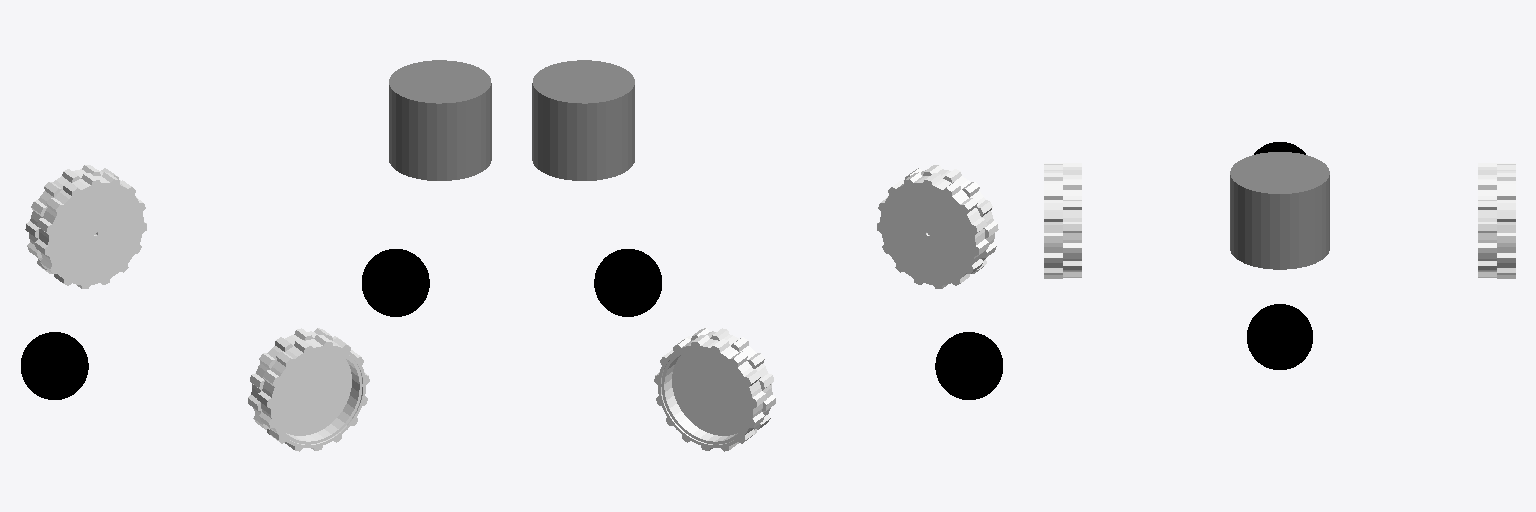
URDF robot description (diff_drive):
<?xml version="1.0"?>
<robot name="diff_drive">

  <!-- ======= 虚拟基座 ======= -->
  <link name="base_footprint">
    <inertial>
      <mass value="0.001"/>
      <origin xyz="0 0 0" rpy="0 0 0"/>
      <inertia ixx="1e-6" ixy="0" ixz="0" iyy="1e-6" iyz="0" izz="1e-6"/>
    </inertial>
  </link>

  <!-- ======= 底盘 ======= -->
  <link name="base_link">
    <inertial>
      <origin xyz="0 0 0.11676" rpy="0 0 0" />
      <mass value="1.7652" />
      <inertia ixx="0.010632" ixy="9.8514E-06" ixz="-1.4455E-05" iyy="0.01085" iyz="-1.0957E-06" izz="0.008973" />
    </inertial>
    <visual>
      <origin xyz="0 0 0" rpy="0 0 0" />
      <geometry>
        <mesh filename="package://diff_drive_gazebo/meshes/base_link.STL" />
      </geometry>
      <material name="">
        <color rgba="0.64706 0.61961 0.58824 1" />
      </material>
    </visual>
    <collision>
      <origin xyz="0 0 0.115" rpy="0 0 0" />
      <geometry>
        <cylinder radius="0.105" length="0.23" />
      </geometry>
    </collision>
  </link>

  <joint name="base_footprint_joint" type="fixed">
    <parent link="base_footprint"/>
    <child link="base_link"/>
    <origin xyz="0 0 0" rpy="0 0 0"/>
  </joint>

  <!-- ======= 左轮 ======= -->
  <link name="wheel1">
    <inertial>
      <origin xyz="-4.785E-12 0.008116 1.4731E-11" rpy="0 0 0" />
      <mass value="0.052039" />
      <inertia ixx="1.7758E-05" ixy="4.1811E-16" ixz="-2.8064E-14" iyy="3.2466E-05" iyz="-2.5217E-15" izz="1.7758E-05" />
    </inertial>
    <visual>
      <origin xyz="0 0 0" rpy="0 0 0" />
      <geometry>
        <mesh filename="package://diff_drive_gazebo/meshes/wheel1.STL" />
      </geometry>
      <material name="">
        <color rgba="1 1 1 1" />
      </material>
    </visual>
    <collision>
      <origin xyz="0 0 0" rpy="1.5708 0 0" />
      <geometry>
        <cylinder radius="0.035" length="0.024" />
      </geometry>
    </collision>
  </link>
  
  <joint name="joint1" type="continuous">
    <origin xyz="-0.013618 0.1186 0.01715" rpy="0 0 0" />
    <parent link="base_link" />
    <child link="wheel1" />
    <axis xyz="0 1 0" />
  </joint>

  <!-- ======= 右轮 ======= -->
  <link name="wheel2">
    <inertial>
      <origin xyz="8.0422E-15 -0.008116 -4.2688E-14" rpy="0 0 0" />
      <mass value="0.052039" />
      <inertia ixx="1.7758E-05" ixy="6.0139E-20" ixz="-2.5647E-20" iyy="3.2466E-05" iyz="3.8403E-21" izz="1.7758E-05" />
    </inertial>
    <visual>
      <origin xyz="0 0 0" rpy="0 0 0" />
      <geometry>
        <mesh filename="package://diff_drive_gazebo/meshes/wheel2.STL" />
      </geometry>
      <material name="">
        <color rgba="1 1 1 1" />
      </material>
    </visual>
    <collision>
      <origin xyz="0 0 0" rpy="1.5708 0 0" />
      <geometry>
        <cylinder radius="0.035" length="0.024" />
      </geometry>
    </collision>
  </link>

  <joint name="joint2" type="continuous">
    <origin xyz="-0.013618 -0.1186 0.01715" rpy="0 0 0" />
    <parent link="base_link" />
    <child link="wheel2" />
    <axis xyz="0 1 0" />
  </joint>

  <!-- ======= 前万向轮 ======= -->
  <link name="front_caster">
    <inertial>
      <mass value="0.02"/>
      <origin xyz="0 0 0" rpy="0 0 0"/>
      <inertia ixx="1e-5" ixy="0" ixz="0" iyy="1e-5" iyz="0" izz="1e-5"/>
    </inertial>
    <visual>
      <origin xyz="0 0 0" rpy="0 0 0"/>
      <geometry>
        <sphere radius="0.02"/>
      </geometry>
      <material name="Black">
        <color rgba="0 0 0 1"/>
      </material>
    </visual>
    <collision>
      <origin xyz="0 0 0" rpy="0 0 0"/>
      <geometry>
        <sphere radius="0.02"/>
      </geometry>
    </collision>
  </link>

  <joint name="front_caster_joint" type="fixed">
    <parent link="base_link"/>
    <child link="front_caster"/>
    <origin xyz="0.12 0 0.0025" rpy="0 0 0"/>
  </joint>

  <!-- ======= 后万向轮 ======= -->
  <link name="rear_caster">
    <inertial>
      <mass value="0.02"/>
      <origin xyz="0 0 0" rpy="0 0 0"/>
      <inertia ixx="1e-5" ixy="0" ixz="0" iyy="1e-5" iyz="0" izz="1e-5"/>
    </inertial>
    <visual>
      <origin xyz="0 0 0" rpy="0 0 0"/>
      <geometry>
        <sphere radius="0.02"/>
      </geometry>
      <material name="Black">
        <color rgba="0 0 0 1"/>
      </material>
    </visual>
    <collision>
      <origin xyz="0 0 0" rpy="0 0 0"/>
      <geometry>
        <sphere radius="0.02"/>
      </geometry>
    </collision>
  </link>

  <joint name="rear_caster_joint" type="fixed">
    <parent link="base_link"/>
    <child link="rear_caster"/>
    <origin xyz="-0.11 0 0.0025" rpy="0 0 0"/>
  </joint>

  <!-- ======= 激光雷达 ======= -->
  <link name="laser">
    <inertial>
      <mass value="0.1" />
      <origin xyz="0 0 0" rpy="0 0 0" />
      <inertia ixx="1e-4" ixy="0" ixz="0" iyy="1e-4" iyz="0" izz="1e-4" />
    </inertial>
    <visual>
      <origin xyz="0 0 0" rpy="0 0 0" />
      <geometry>
        <cylinder radius="0.03" length="0.05" />
      </geometry>
      <material name="Gray">
        <color rgba="0.6 0.6 0.6 1" />
      </material>
    </visual>
    <collision>
      <origin xyz="0 0 0" rpy="0 0 0" />
      <geometry>
        <cylinder radius="0.03" length="0.05" />
      </geometry>
    </collision>
  </link>

  <joint name="laser_joint" type="fixed">
    <parent link="base_link" />
    <child link="laser" />
    <origin xyz="0.15 0 0.1" rpy="0 0 0" />
  </joint>

  <!-- ========== Gazebo ROS 2 激光雷达插件 ========== -->
  <gazebo reference="laser">
    <sensor type="ray" name="laser_sensor">
      <pose>0 0 0 0 0 0</pose>
      <update_rate>10</update_rate>
      <ray>
        <scan>
          <horizontal>
            <samples>720</samples>
            <resolution>1</resolution>
            <min_angle>-3.14</min_angle>
            <max_angle>3.14</max_angle>
          </horizontal>
        </scan>
        <range>
          <min>0.10</min>
          <max>10.0</max>
          <resolution>0.01</resolution>
        </range>
        <noise>
          <type>gaussian</type>
          <mean>0.0</mean>
          <stddev>0.01</stddev>
        </noise>
      </ray>
      <visualize>false</visualize>
      <!-- ROS 2 雷达插件 -->
      <plugin name="gazebo_rplidar" filename="libgazebo_ros_ray_sensor.so">
        <ros>
          <remapping>~/out:=/not_true_scan</remapping>
        </ros>
        <output_type>sensor_msgs/LaserScan</output_type>
        <frame_name>laser</frame_name>
      </plugin>
    </sensor>
  </gazebo>

  <!-- 轮子物理属性 -->
  <gazebo reference="wheel1">
    <mu1>1.5</mu1>
    <mu2>1.5</mu2>
    <kp>1e6</kp>
    <kd>100</kd>
    <minDepth>0.001</minDepth>
    <material>Gazebo/Black</material>
  </gazebo>

  <gazebo reference="wheel2">
    <mu1>1.5</mu1>
    <mu2>1.5</mu2>
    <kp>1e6</kp>
    <kd>100</kd>
    <minDepth>0.001</minDepth>
    <material>Gazebo/Black</material>
  </gazebo>

  <gazebo reference="front_caster">
    <mu1>0.1</mu1>
    <mu2>0.1</mu2>
    <kp>1e6</kp>
    <kd>50</kd>
    <minDepth>0.001</minDepth>
    <material>Gazebo/Black</material>
  </gazebo>

  <gazebo reference="rear_caster">
    <mu1>0.1</mu1>
    <mu2>0.1</mu2>
    <kp>1e6</kp>
    <kd>50</kd>
    <minDepth>0.001</minDepth>
    <material>Gazebo/Black</material>
  </gazebo>

  <!-- ========== Gazebo ROS 2 差速驱动插件 ========== -->
  <gazebo>
    <plugin name="differential_drive_controller" filename="libgazebo_ros_diff_drive.so">
      <ros>
        <namespace>/</namespace>
      </ros>
      <left_joint>joint1</left_joint>
      <right_joint>joint2</right_joint>
      <wheel_separation>0.2372</wheel_separation>
      <wheel_diameter>0.07</wheel_diameter>
      <max_wheel_torque>20.0</max_wheel_torque>
      <max_wheel_acceleration>5.0</max_wheel_acceleration>
      <command_topic>cmd_vel</command_topic>
      <odometry_topic>odom</odometry_topic>
      <odometry_frame>odom</odometry_frame>
      <robot_base_frame>base_footprint</robot_base_frame>
      <publish_odom>true</publish_odom>
      <publish_odom_tf>true</publish_odom_tf>
      <publish_wheel_tf>true</publish_wheel_tf>
      <update_rate>100.0</update_rate>
    </plugin>
  </gazebo>

</robot>

--- What the picture shows (computed from the rendered views, not written in the file) ---
Views: 3 orthographic renders of the robot side by side, from view 1: azimuth 30°, elevation 25°; view 2: azimuth 150°, elevation 25°; view 3: azimuth 270°, elevation 25°.
Robot: diff_drive — 7 links, 6 joints (2 continuous, 4 fixed); root link base_footprint; default pose: all joints at 0.
Links seen in each view (by area): view 1: laser, wheel1, wheel2, front_caster, rear_caster; view 2: laser, wheel2, wheel1, front_caster, rear_caster; view 3: laser, wheel1, wheel2, front_caster.
Boxes of the visible links, x1=… form: laser: x1=389, y1=60, x2=491, y2=180; wheel1: x1=25, y1=165, x2=146, y2=288; wheel2: x1=248, y1=328, x2=369, y2=451; front_caster: x1=362, y1=249, x2=429, y2=316; rear_caster: x1=21, y1=332, x2=88, y2=399; laser: x1=532, y1=60, x2=634, y2=180; wheel2: x1=877, y1=165, x2=998, y2=288; wheel1: x1=654, y1=328, x2=775, y2=451; front_caster: x1=594, y1=249, x2=661, y2=316; rear_caster: x1=935, y1=332, x2=1002, y2=399; laser: x1=1230, y1=152, x2=1329, y2=269; wheel1: x1=1478, y1=163, x2=1515, y2=278; wheel2: x1=1044, y1=163, x2=1081, y2=278; front_caster: x1=1247, y1=304, x2=1312, y2=369.
Size in the robot's own frame: 0.31 by 0.2822 by 0.1425 metres.
Meshes: 3 distinct files referenced, 2 mesh visuals loaded (2 binary STL); not drawn: 1 (reference not matched to a file when rendering).
